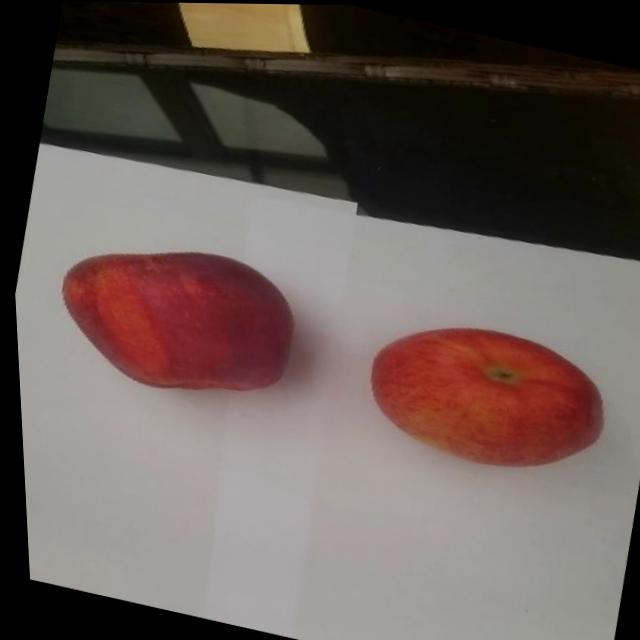Apple: (34, 217, 312, 419), (350, 298, 620, 492)
